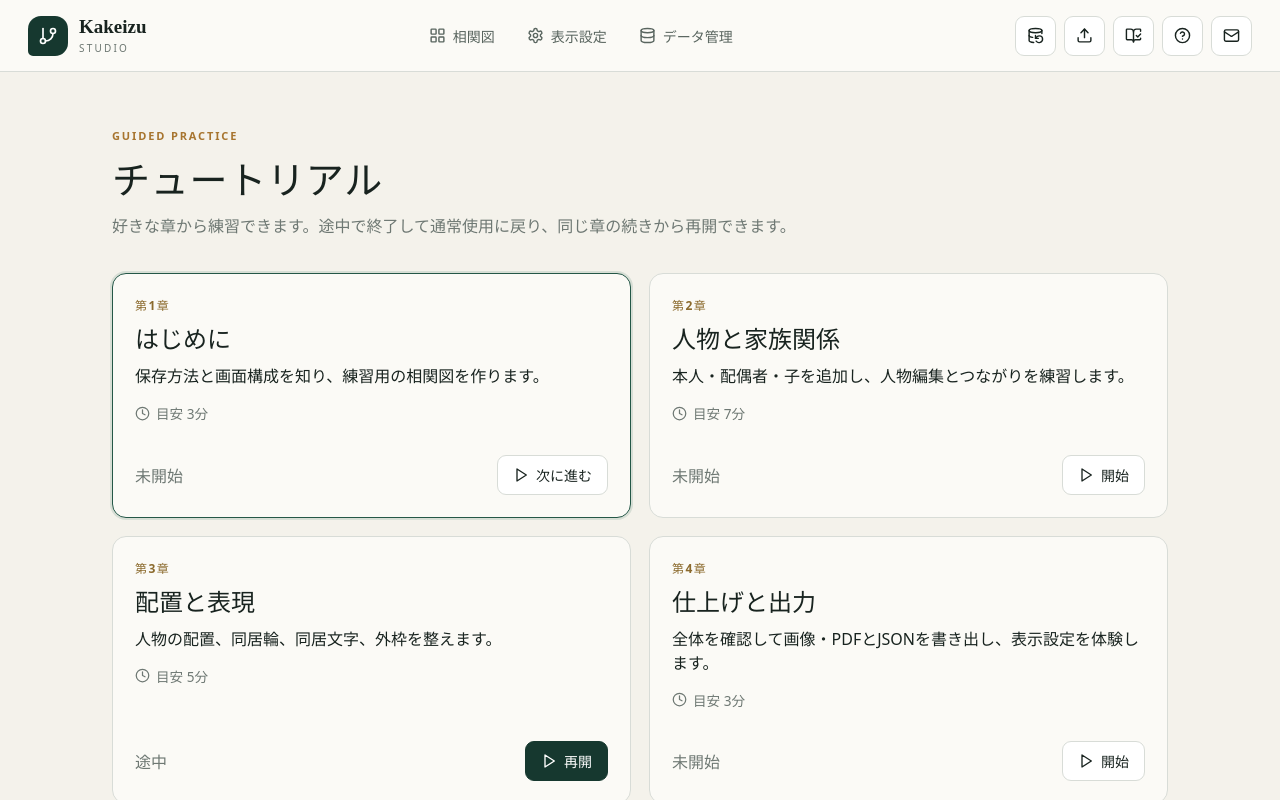
練習用相関図の読み込みエラー › {} の場合は再作成せず進捗を保持する
The width and height of the screenshot is (1280, 800).
Click the button "再開".
click(566, 761)  # box [525, 741, 608, 781]
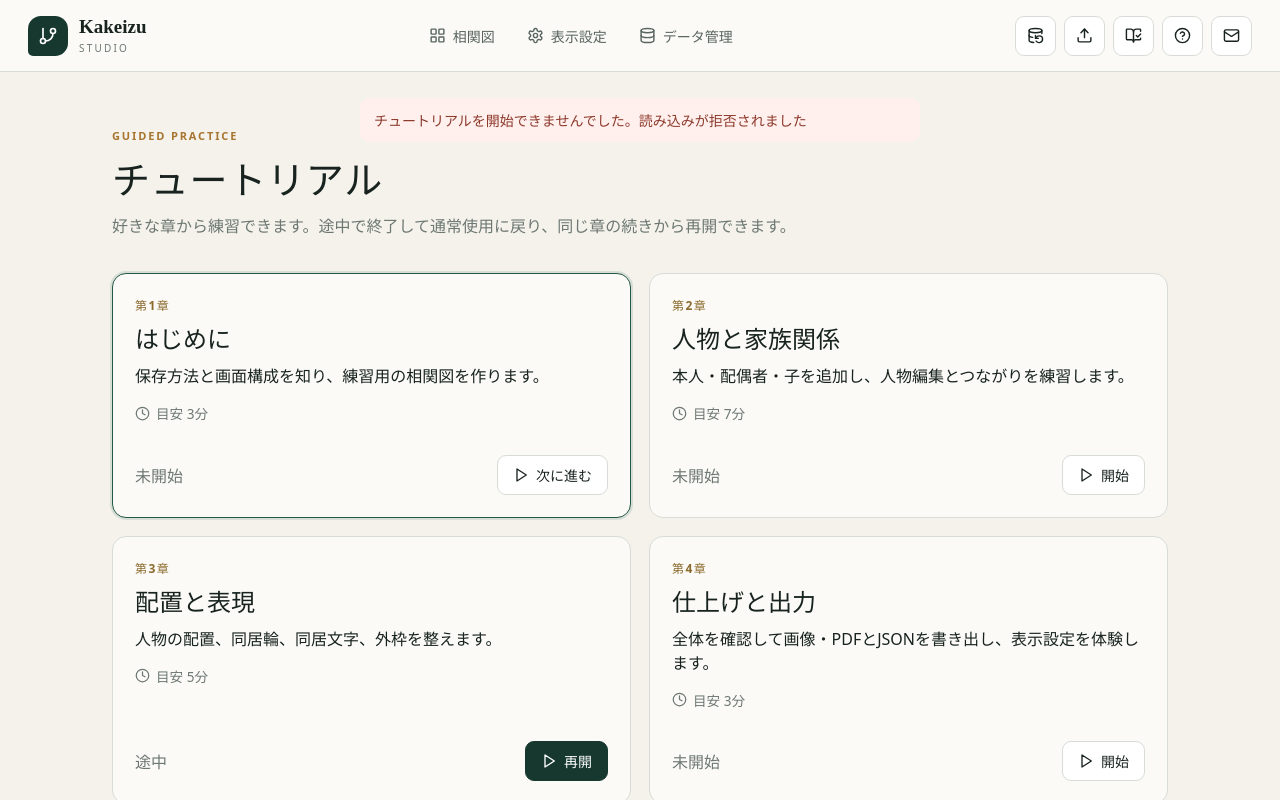
Now the text "チュートリアルを開始できませんでした。読み込みが拒否されました" is shown, box [360, 98, 920, 142]
